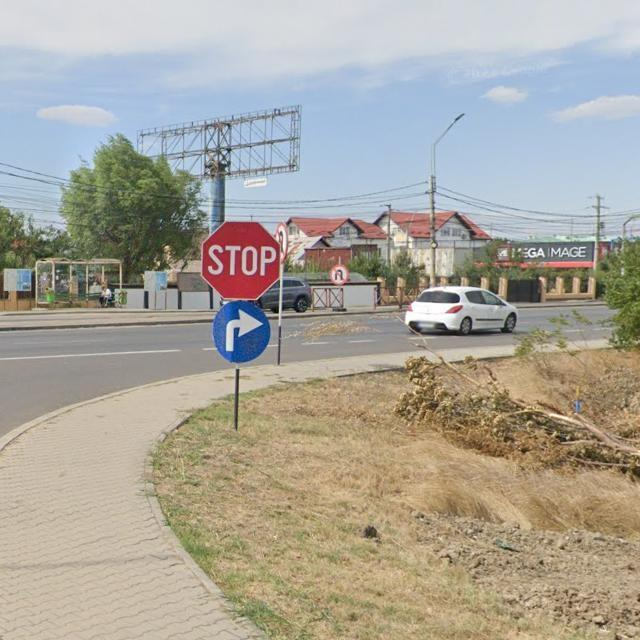prio_stop: (200, 220, 281, 300)
